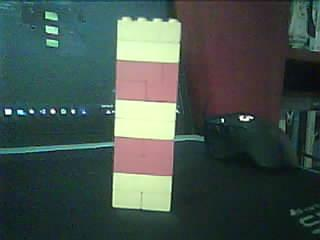lego: (112, 15, 181, 211)
